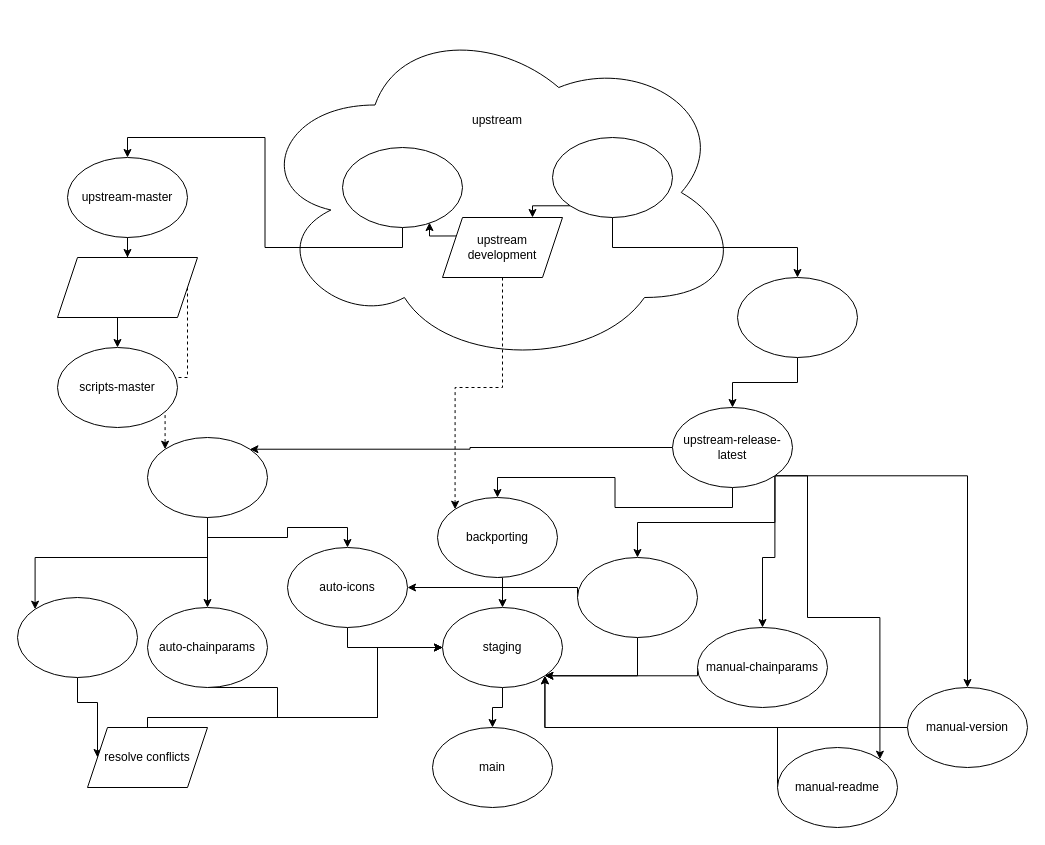
Image size: 1045x845. Some labels were removed from this diagram. The shapes that lost their labels are listed below. From the top down, each one's centre as x and y in pixels, then its label:
At pixel 402 187: "upstream/master".
At pixel 612 177: "upstream/tags/0.21.1".
At pixel 127 287: "script development".
At pixel 797 317: "upstream-release-0.21.1".
At pixel 207 477: "scripts-latest".
At pixel 637 597: "manual-icons".
At pixel 77 637: "auto-rename".
